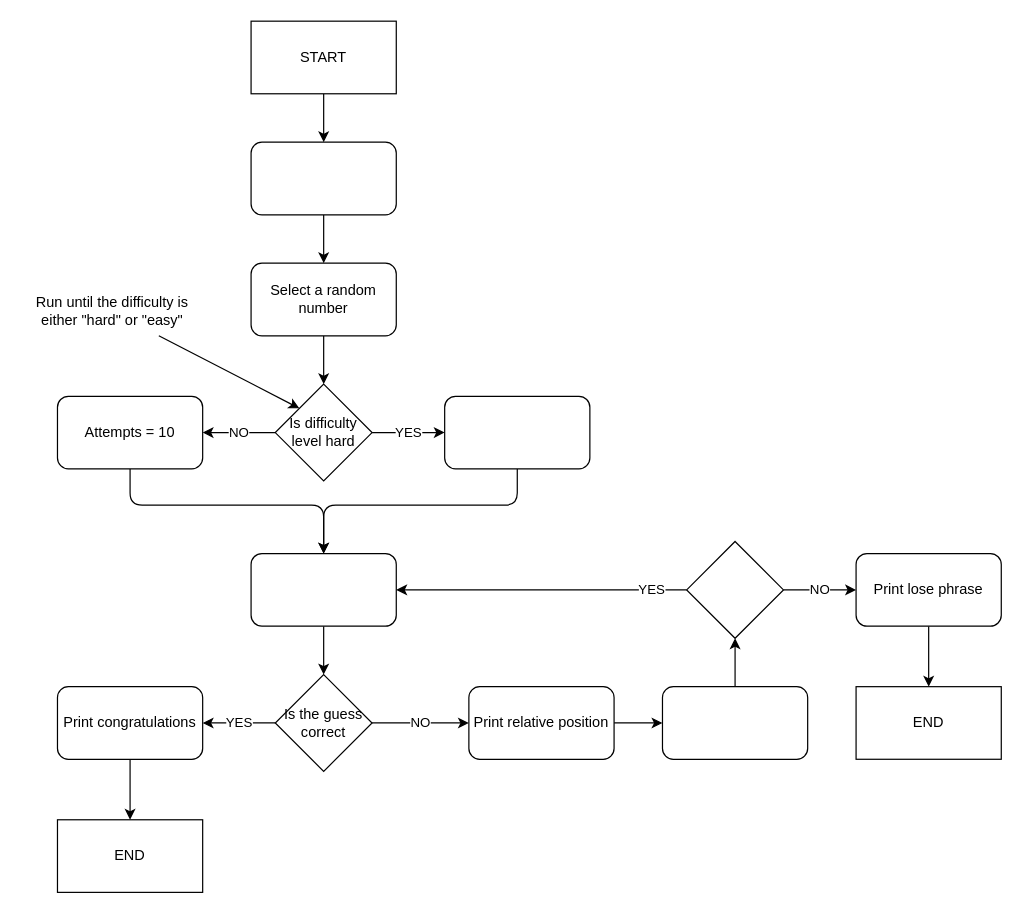
Image size: 1022x914. Some labels were removed from this diagram. The shapes that lost their labels are listed below. From the top down, each one's box as (x1, y1, x2, y2) in pixels, then its label:
(250, 141, 396, 215): Print intro
(443, 395, 590, 469): Attempts = 5
(250, 552, 396, 626): Ask for a number
(685, 540, 783, 638): Attempts > 0
(661, 685, 808, 759): Reduce attempts
